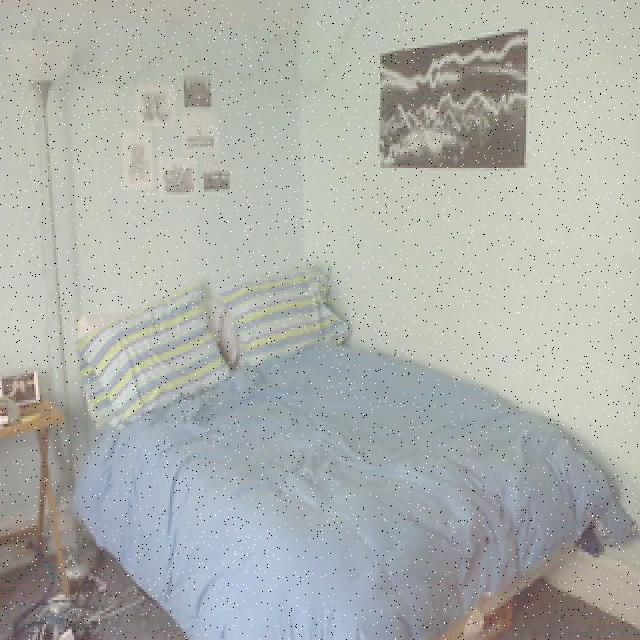bed: (77, 263, 605, 635)
